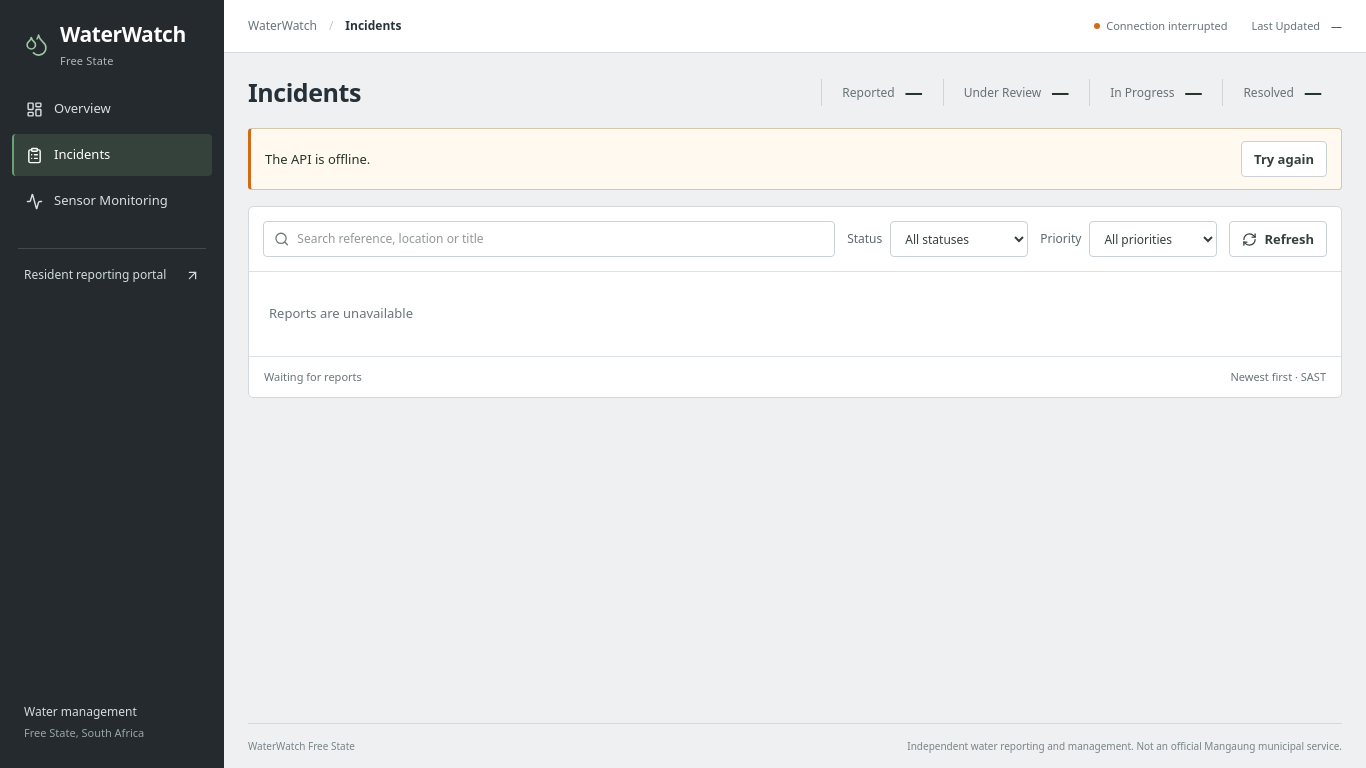
Test case: municipal monitoring › recovers from fetch failure on retry
The width and height of the screenshot is (1366, 768).
Expected: the message shows "The API is offline.", [265,150,370,168]
Click the button "Try again": (1284, 159) [1241,141,1327,177]
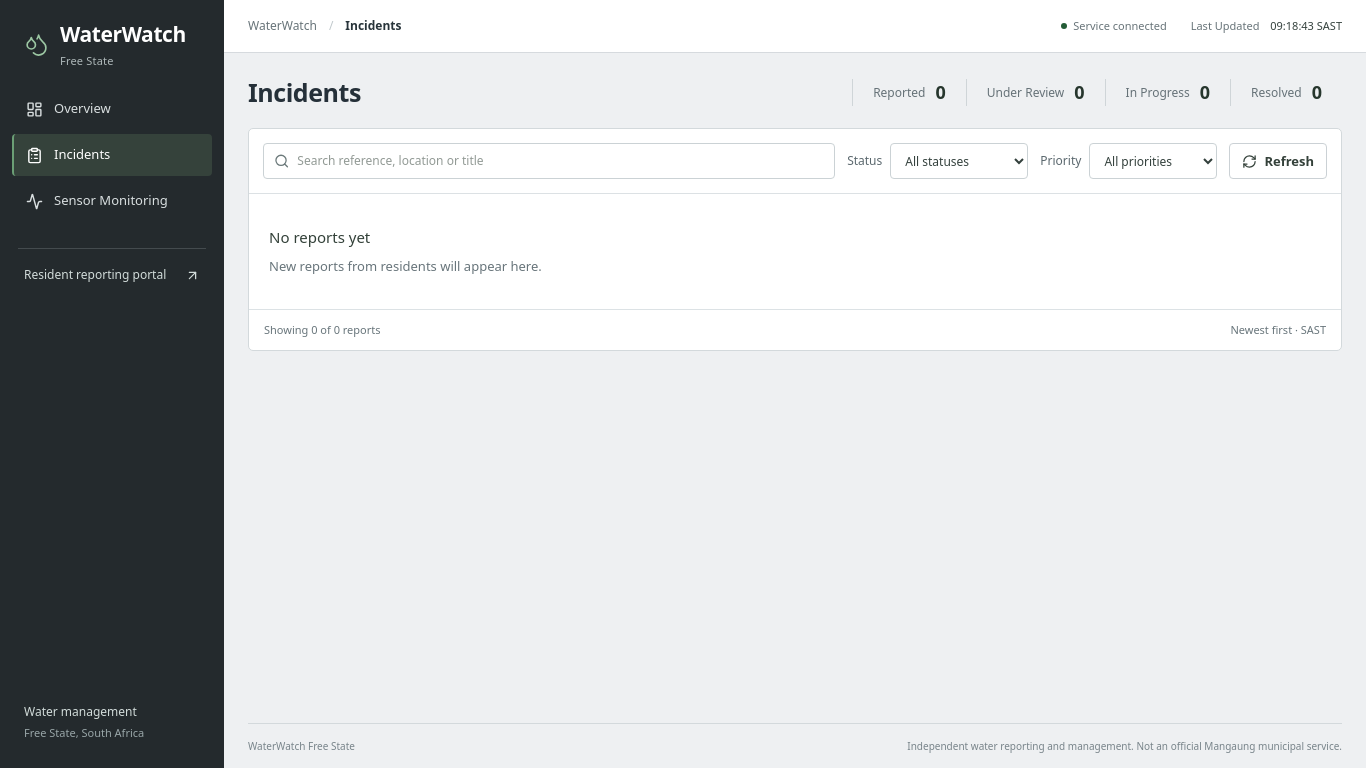
Expected: the heading "No reports yet" is shown, [269,227,370,247]
